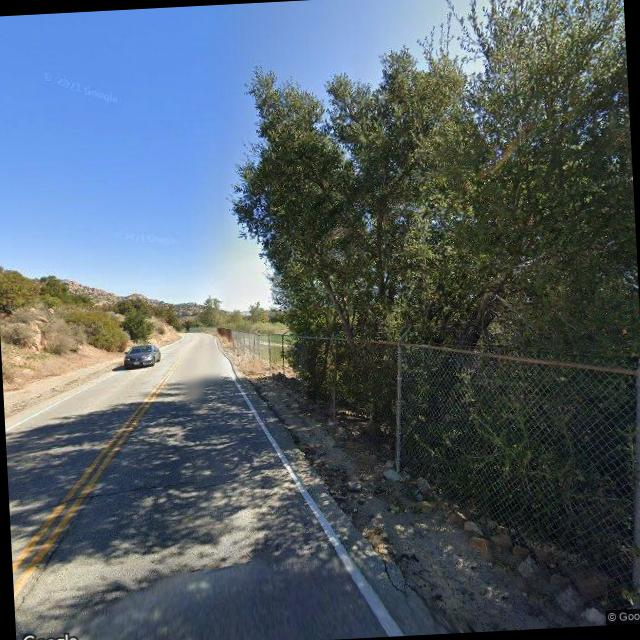crack: (8, 471, 205, 524)
